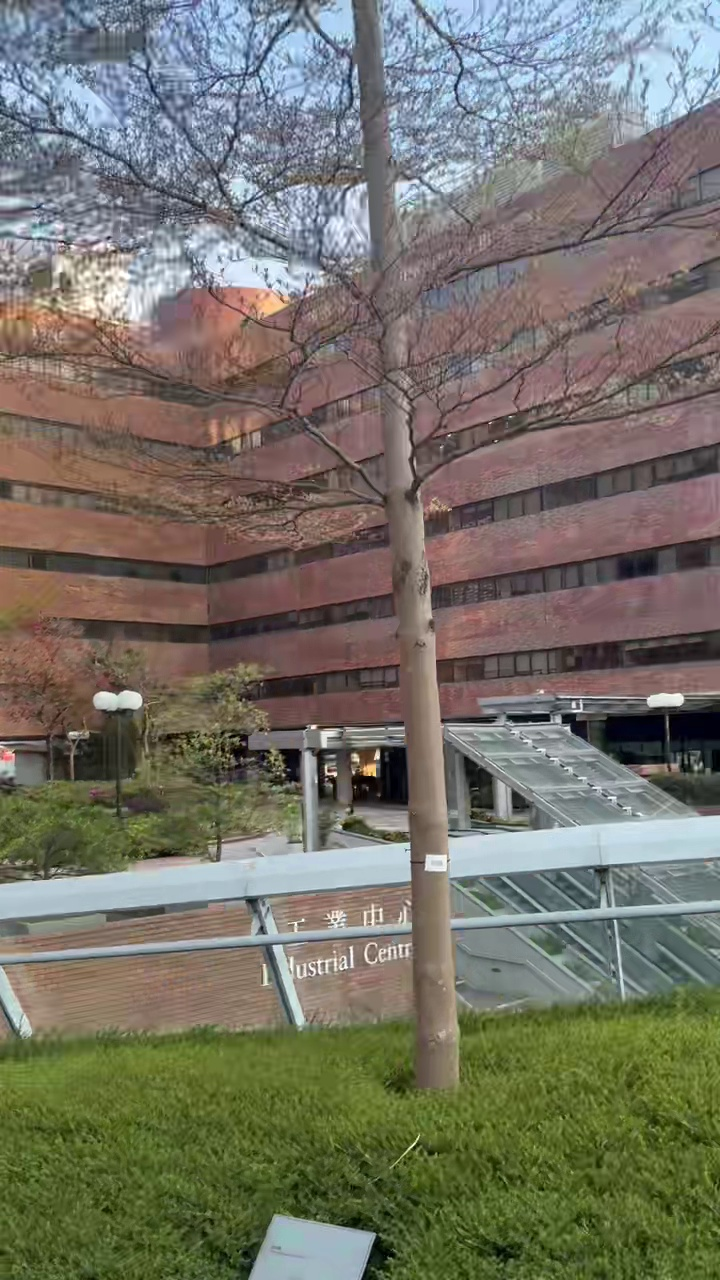Terminalia mantaly: (0, 0, 719, 1089)
